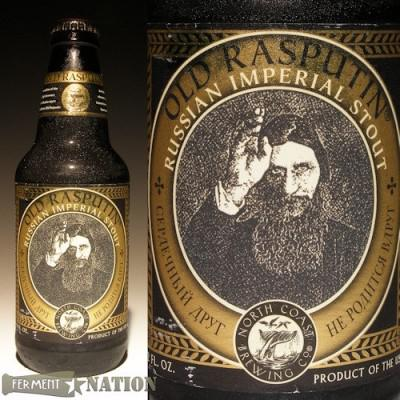beer: (15, 21, 133, 372)
